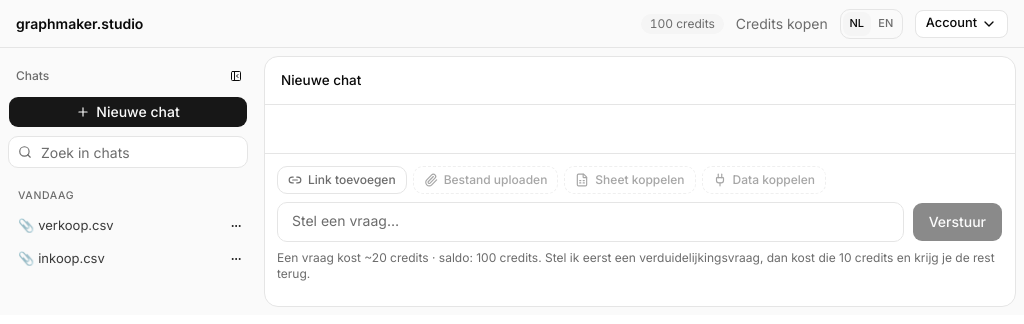
Test: Workspace — mixed CBS + dataset thread list (ADR 037 D10 invariant) › switching between two dataset threads resets DatasetChat to the NEW thread's messages (the key={threadId} remount)
The image size is (1024, 324).
Click the button "📎verkoop.csv" at (115, 226), box 8,210 -> 222,241
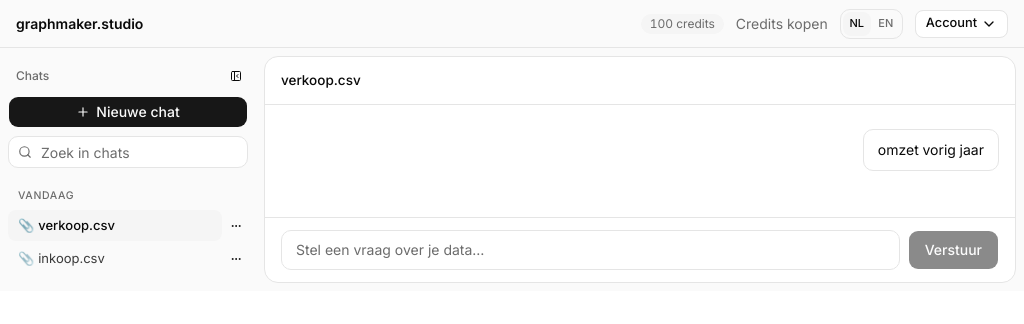
Now the text "omzet vorig jaar" is shown, box 863,129 -> 999,171
Click the button "📎inkoop.csv" at (115, 259), box 8,243 -> 222,275
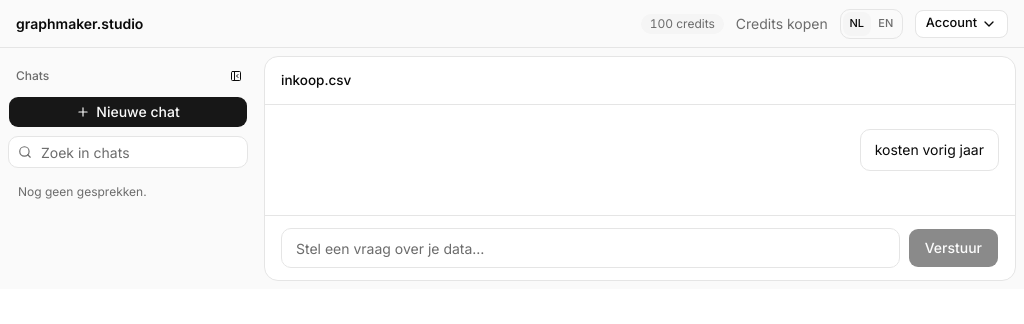
Now the text "kosten vorig jaar" is shown, box 860,129 -> 999,171
Now the text "omzet vorig jaar" is gone
